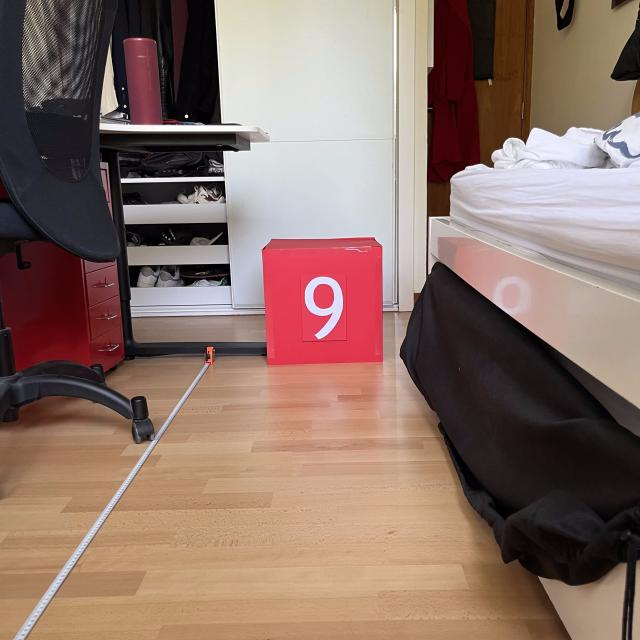box: (258, 233, 387, 367)
